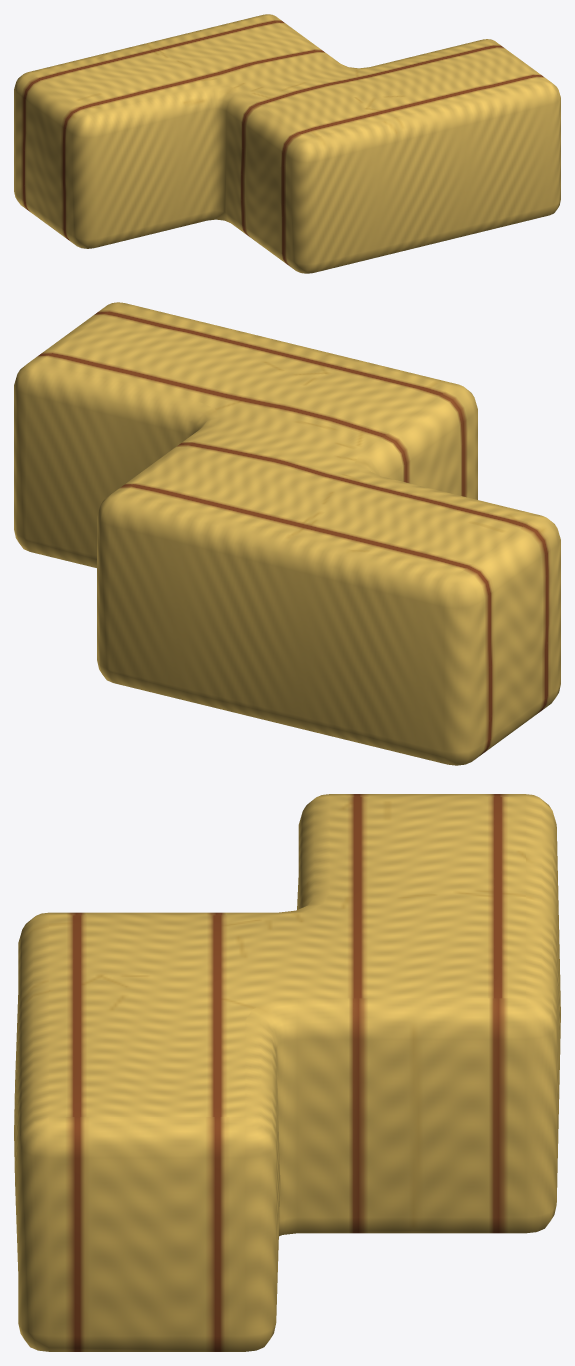
Rendered from HayBale_SMirror.fbx.
3 renders of one model, top to bottom at view 1: azimuth 30°, elevation 25°; view 2: azimuth 150°, elevation 25°; view 3: azimuth 270°, elevation 25°, orthographic. The views are drawn at different scales.
Visible parts, largest first — view 1: HayBale_SMirror; view 2: HayBale_SMirror; view 3: HayBale_SMirror.
Boxes of the visible parts, <box> form: HayBale_SMirror: <box>14,14,560,273</box>; HayBale_SMirror: <box>14,302,560,765</box>; HayBale_SMirror: <box>14,794,560,1351</box>.
Bounding box in the file's own units: 2.95 × 0.9078 × 1.95.
Materials: 1 (1 with a texture image).
